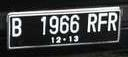1: (40, 15, 48, 36)
6: (59, 16, 69, 36), (70, 14, 80, 34)
9: (48, 16, 59, 36)
B: (11, 17, 23, 38)
F: (98, 13, 108, 33)
Plate: (9, 9, 119, 49)
R: (87, 13, 97, 33), (108, 12, 118, 32)
